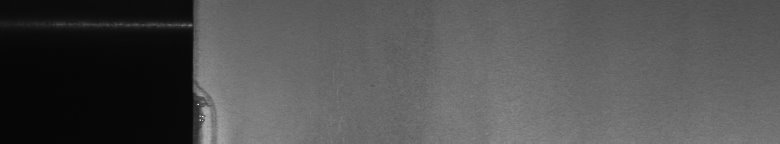hb: (204, 88, 223, 136)
